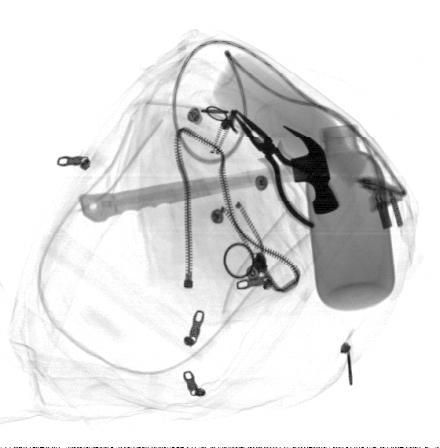Hammer: (79, 125, 339, 223)
Pliers: (233, 110, 338, 232)
